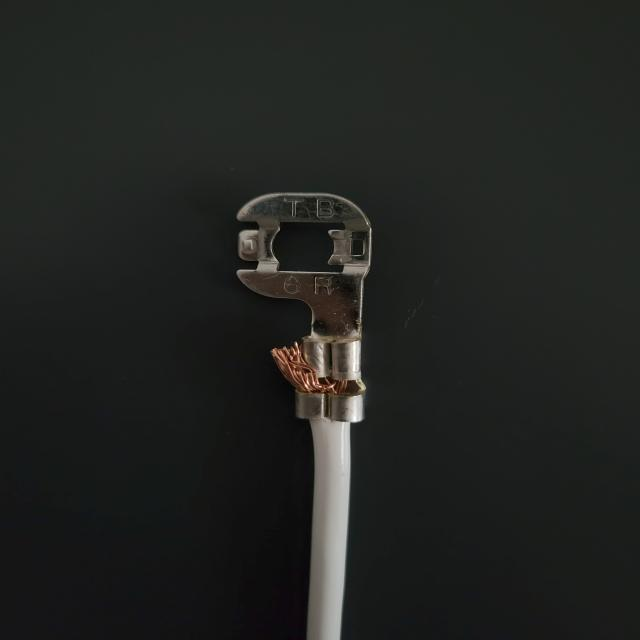defect: (130, 149, 540, 490)
